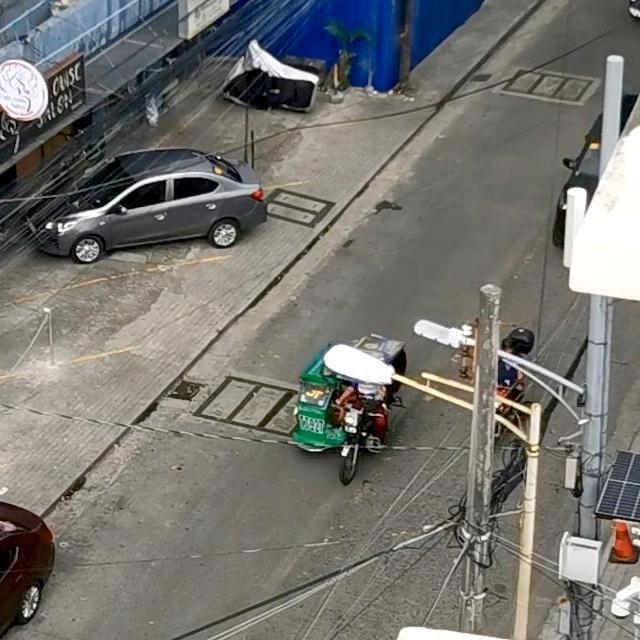Car: (32, 149, 256, 262), (556, 100, 638, 242)
Tricycle: (277, 323, 415, 484)
